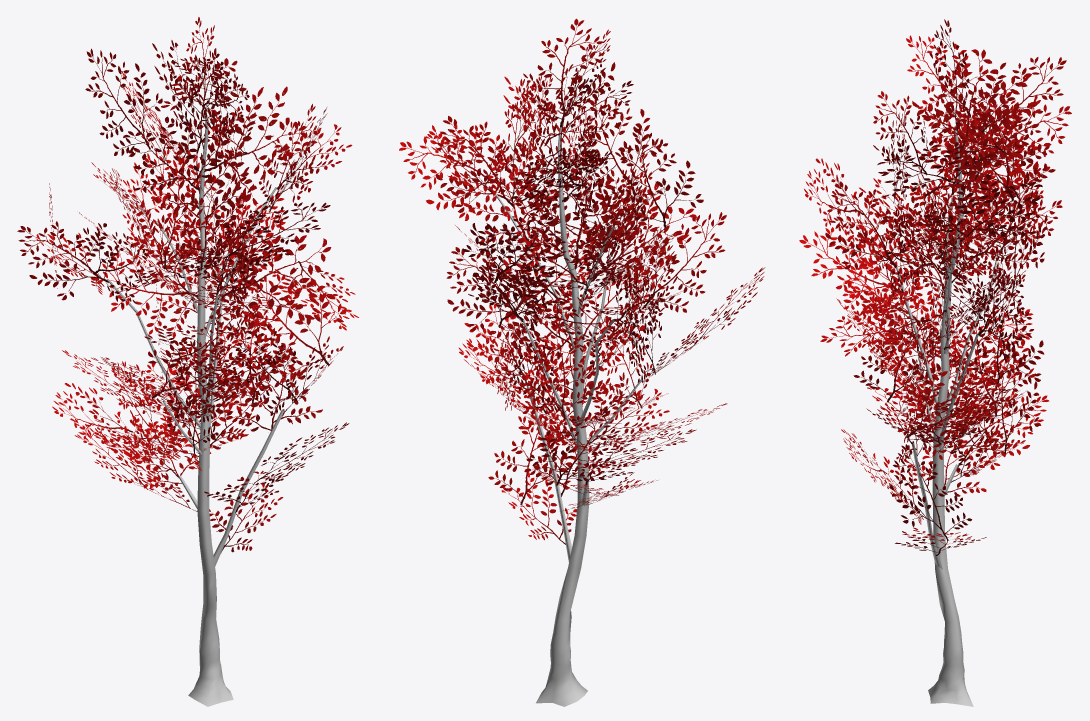
File: Bio_Gen_TR_Quercus_17m_Optimization_MOB.fbx
3 views of the same model, side by side, from view 1: azimuth 30°, elevation 25°; view 2: azimuth 150°, elevation 25°; view 3: azimuth 270°, elevation 25° (orthographic).
Parts seen in each view (by area): view 1: Leaves, Branches; view 2: Leaves, Branches; view 3: Leaves, Branches.
Boxes of the visible parts, <box> form: Leaves: <box>17,17,358,552</box>; Branches: <box>108,117,284,706</box>; Leaves: <box>399,18,765,544</box>; Branches: <box>495,125,642,706</box>; Leaves: <box>799,19,1071,555</box>; Branches: <box>896,130,999,706</box>.
Size of the model in its own units: 8.24 by 17.65 by 6.61.
